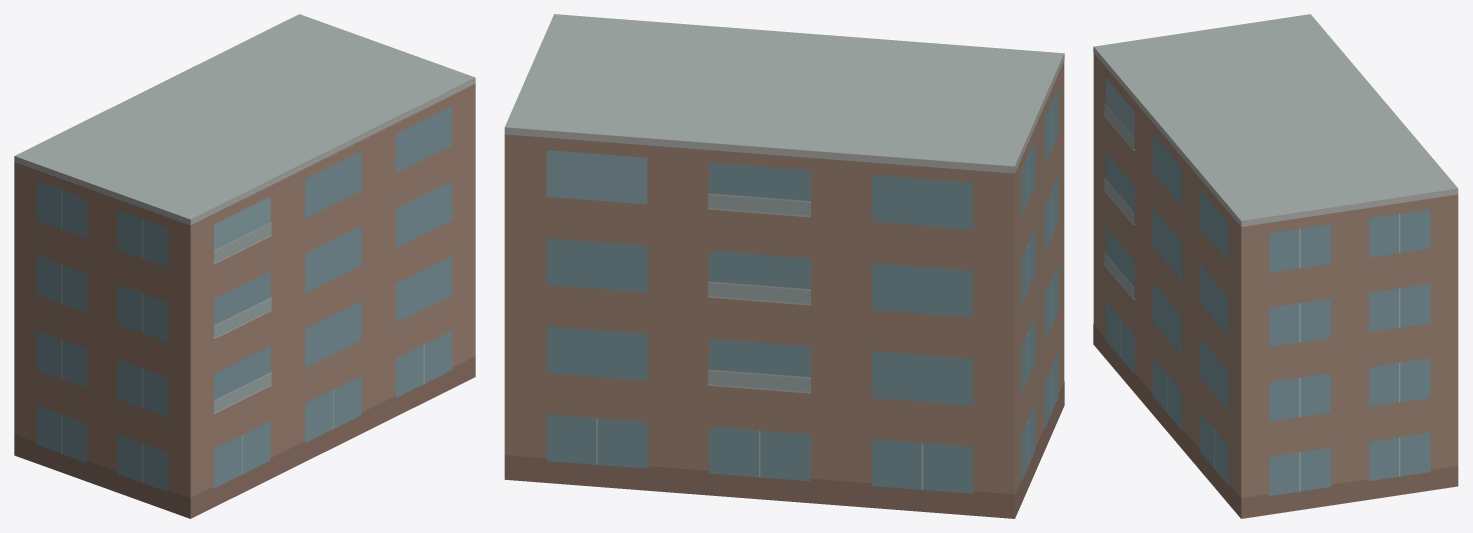
The model's file is survey-upis-32706019.glb.
3 views of the same model, side by side, from view 1: azimuth 30°, elevation 25°; view 2: azimuth 150°, elevation 25°; view 3: azimuth 270°, elevation 25° (orthographic). The views are drawn at different scales.
Visible parts, largest first — view 1: survey-upis-32706019.tmp; view 2: survey-upis-32706019.tmp; view 3: survey-upis-32706019.tmp.
Part boxes in pixels (x1,y1,x2,y2): survey-upis-32706019.tmp: [14, 14, 475, 518]; survey-upis-32706019.tmp: [504, 14, 1064, 518]; survey-upis-32706019.tmp: [1093, 14, 1458, 518].
Size of the model in its own units: 18.19 by 12.2 by 13.55.
